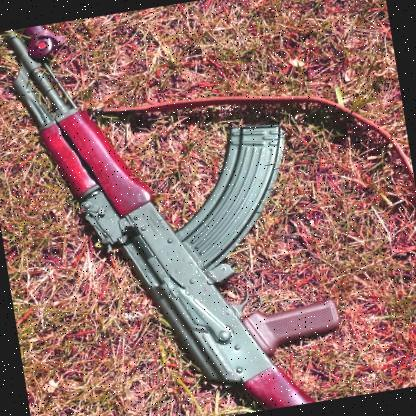rifle: (0, 0, 354, 416)
